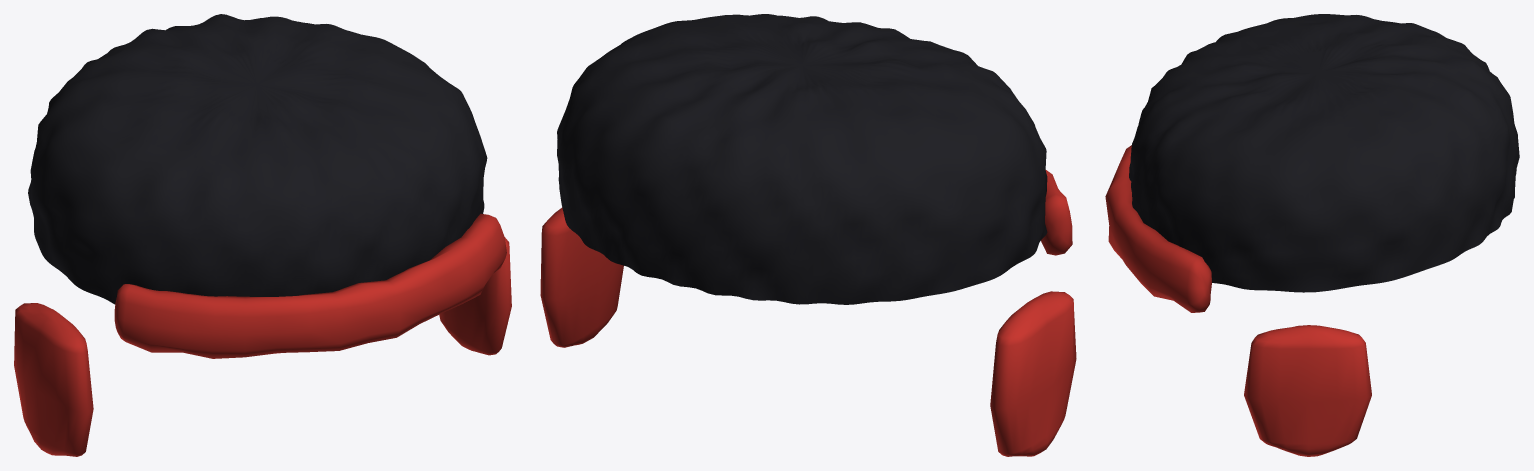
The model's file is hw_ushanka.glb.
3 views of the same model, side by side, from view 1: azimuth 30°, elevation 25°; view 2: azimuth 150°, elevation 25°; view 3: azimuth 270°, elevation 25° (orthographic). The views are drawn at different scales.
Parts seen in each view (by area): view 1: hw_ushanka, hw_ushanka_flaps; view 2: hw_ushanka, hw_ushanka_flaps; view 3: hw_ushanka, hw_ushanka_flaps.
Part boxes in pixels (bbox=[...]): hw_ushanka: bbox=[28, 14, 487, 304]; hw_ushanka_flaps: bbox=[14, 213, 511, 456]; hw_ushanka: bbox=[557, 14, 1047, 304]; hw_ushanka_flaps: bbox=[540, 170, 1076, 456]; hw_ushanka: bbox=[1129, 14, 1519, 292]; hw_ushanka_flaps: bbox=[1105, 145, 1371, 456].
Size of the model in its own units: 1 by 0.6821 by 0.8604.
